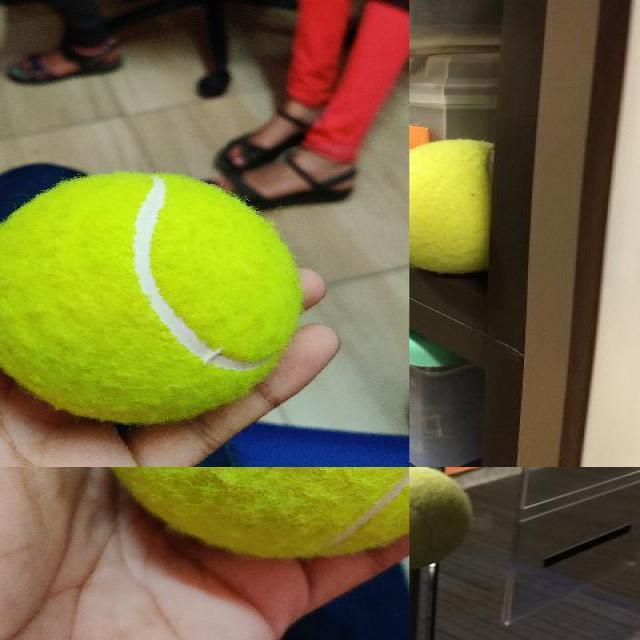tennis-ball: (0, 173, 300, 422), (100, 467, 408, 556), (409, 136, 487, 282), (409, 467, 475, 571)
